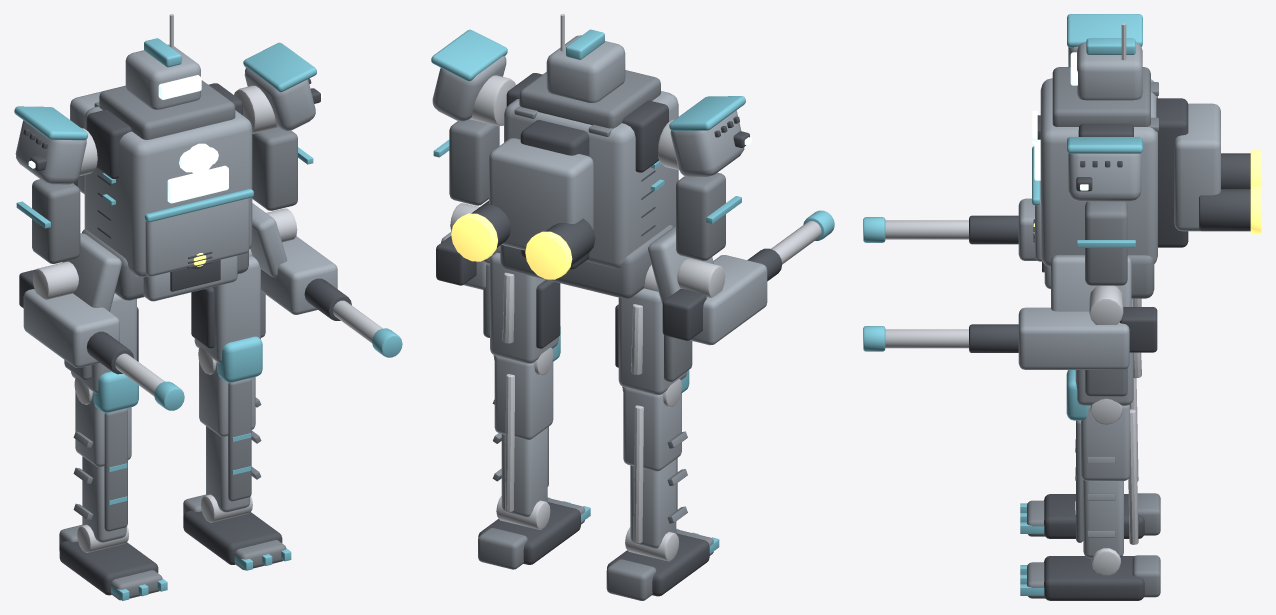
Rendered from skirmisher.glb.
3 renders of one model, left to right at view 1: azimuth 30°, elevation 25°; view 2: azimuth 150°, elevation 25°; view 3: azimuth 270°, elevation 25°, orthographic. The views are drawn at different scales.
Parts seen in each view (by area): view 1: SKM_torso_shell, SKM_torso_plate, SKM_gun_r_shell, SKM_knee_l_shell, SKM_arm_r_plate, SKM_arm_l_plate, SKM_knee_r_shell, SKM_leg_l_shell, SKM_knee_r_plate, SKM_gun_l_shell, SKM_knee_l_plate, SKM_foot_r_dark (+28 smaller); view 2: SKM_torso_shell, SKM_torso_plate, SKM_knee_l_shell, SKM_knee_r_shell, SKM_torso_dark, SKM_gun_r_shell, SKM_leg_r_shell, SKM_arm_r_plate, SKM_leg_l_shell, SKM_head_shell, SKM_torso_hot, SKM_arm_l_plate (+23 smaller); view 3: SKM_torso_shell, SKM_torso_dark, SKM_gun_l_shell, SKM_knee_l_shell, SKM_torso_plate, SKM_foot_l_dark, SKM_arm_l_plate, SKM_arm_l_shell, SKM_head_shell, SKM_gun_l_dark, SKM_arm_r_trim, SKM_foot_r_dark (+20 smaller).
Part boxes in pixels (x1=…): SKM_torso_shell: x1=62, y1=91, x2=287, y2=311; SKM_torso_plate: x1=82, y1=80, x2=248, y2=300; SKM_gun_r_shell: x1=23, y1=289, x2=119, y2=367; SKM_knee_l_shell: x1=199, y1=361, x2=255, y2=512; SKM_arm_r_plate: x1=32, y1=179, x2=80, y2=263; SKM_arm_l_plate: x1=252, y1=127, x2=297, y2=210; SKM_knee_r_shell: x1=75, y1=391, x2=131, y2=542; SKM_leg_l_shell: x1=194, y1=256, x2=260, y2=363; SKM_knee_r_plate: x1=73, y1=408, x2=127, y2=531; SKM_gun_l_shell: x1=261, y1=236, x2=337, y2=314; SKM_knee_l_plate: x1=228, y1=378, x2=261, y2=501; SKM_foot_r_dark: x1=59, y1=540, x2=158, y2=595; SKM_torso_shell: x1=482, y1=91, x2=713, y2=303; SKM_torso_plate: x1=500, y1=70, x2=673, y2=298; SKM_knee_l_shell: x1=494, y1=356, x2=553, y2=517; SKM_knee_r_shell: x1=623, y1=387, x2=681, y2=548; SKM_torso_dark: x1=471, y1=120, x2=655, y2=269; SKM_gun_r_shell: x1=690, y1=255, x2=767, y2=345; SKM_leg_r_shell: x1=618, y1=288, x2=687, y2=395; SKM_arm_r_plate: x1=676, y1=172, x2=725, y2=260; SKM_leg_l_shell: x1=490, y1=252, x2=558, y2=363; SKM_head_shell: x1=546, y1=35, x2=625, y2=102; SKM_torso_hot: x1=451, y1=213, x2=572, y2=279; SKM_arm_l_plate: x1=449, y1=119, x2=499, y2=205; SKM_torso_shell: x1=1035, y1=78, x2=1220, y2=311; SKM_torso_dark: x1=1033, y1=98, x2=1250, y2=272; SKM_gun_l_shell: x1=1018, y1=307, x2=1129, y2=369; SKM_knee_l_shell: x1=1081, y1=405, x2=1129, y2=558; SKM_torso_plate: x1=1052, y1=67, x2=1158, y2=298; SKM_foot_l_dark: x1=1044, y1=556, x2=1144, y2=600; SKM_arm_l_plate: x1=1085, y1=201, x2=1127, y2=285; SKM_arm_l_shell: x1=1068, y1=153, x2=1141, y2=201; SKM_head_shell: x1=1077, y1=42, x2=1142, y2=100; SKM_gun_l_dark: x1=969, y1=307, x2=1157, y2=352; SKM_arm_r_trim: x1=1067, y1=14, x2=1142, y2=47; SKM_foot_r_dark: x1=1044, y1=494, x2=1144, y2=538.
Bounding box in the file's own units: 2.7 × 4.7 × 3.13.
